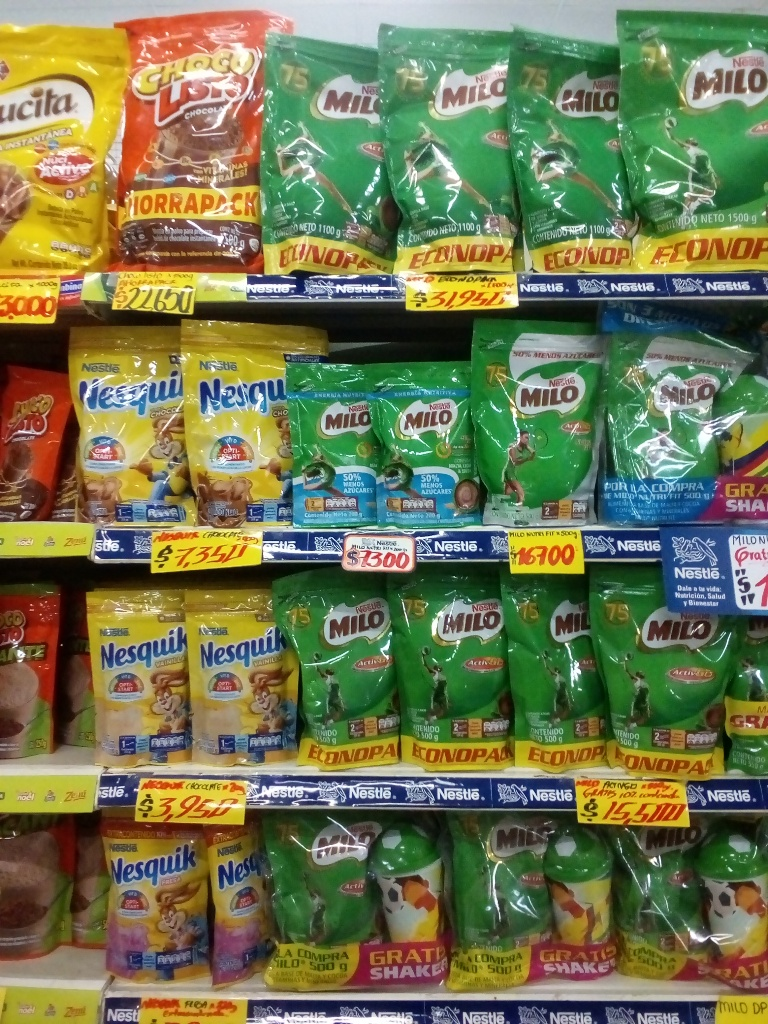COL0170102DYP25000: (0, 573, 64, 760)
COL0170102DYP50000: (0, 817, 82, 975)
COL0170103DYP1,500: (117, 5, 270, 266)
COL0170103DYP20000: (5, 364, 64, 521)
COL0170203DYP50000: (276, 569, 407, 773)
COL0170205DYP20000: (273, 360, 383, 524)
COL0170205DYP50000: (473, 317, 607, 528)
COL0170303DYP20000: (70, 323, 195, 527)
COL0170306DYP20000: (76, 581, 189, 763)
